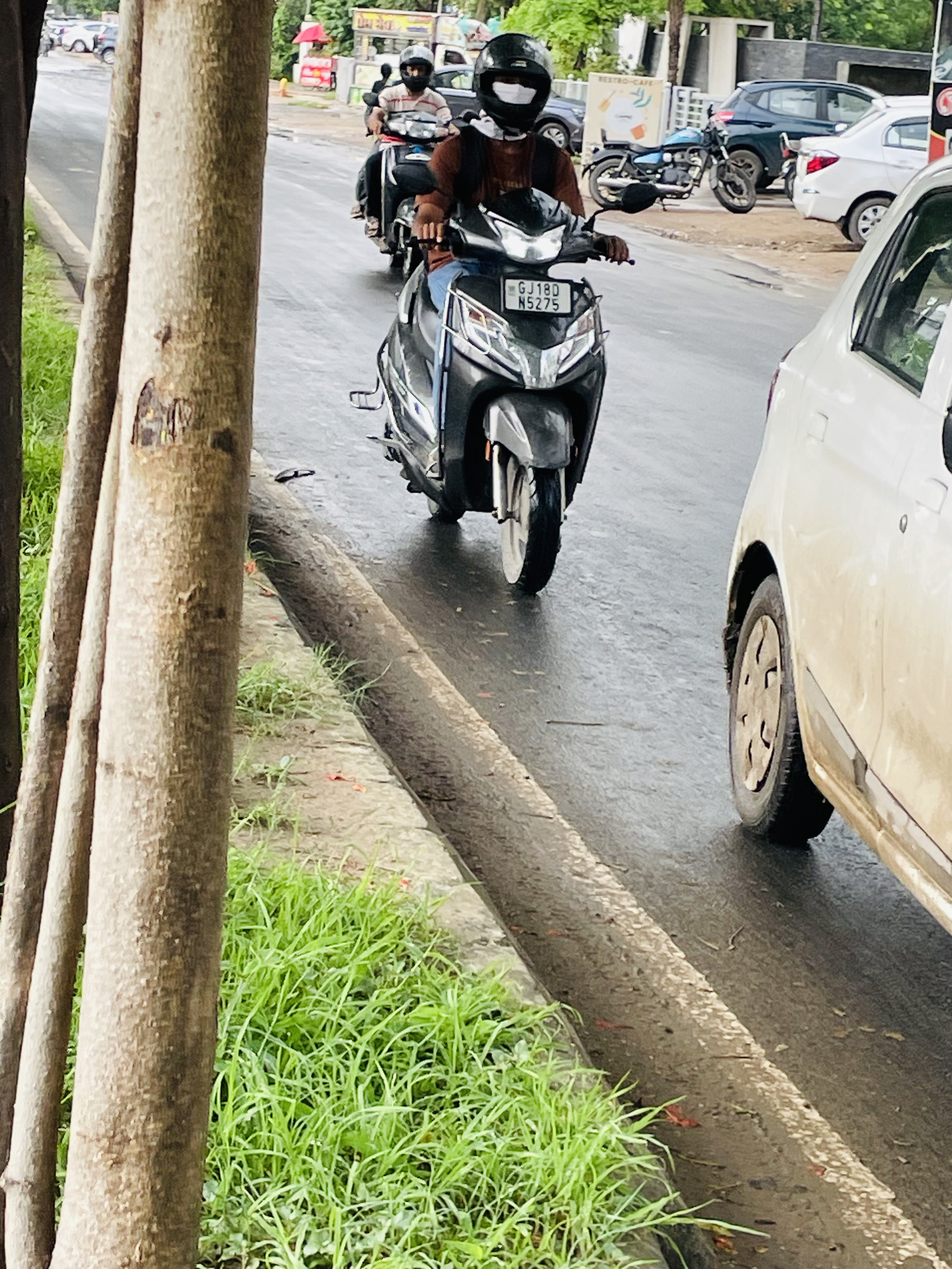BikeWithRider: (377, 29, 658, 596), (351, 44, 461, 285)
Helmet: (463, 25, 552, 129)
NoHelmet: (390, 40, 436, 99)
